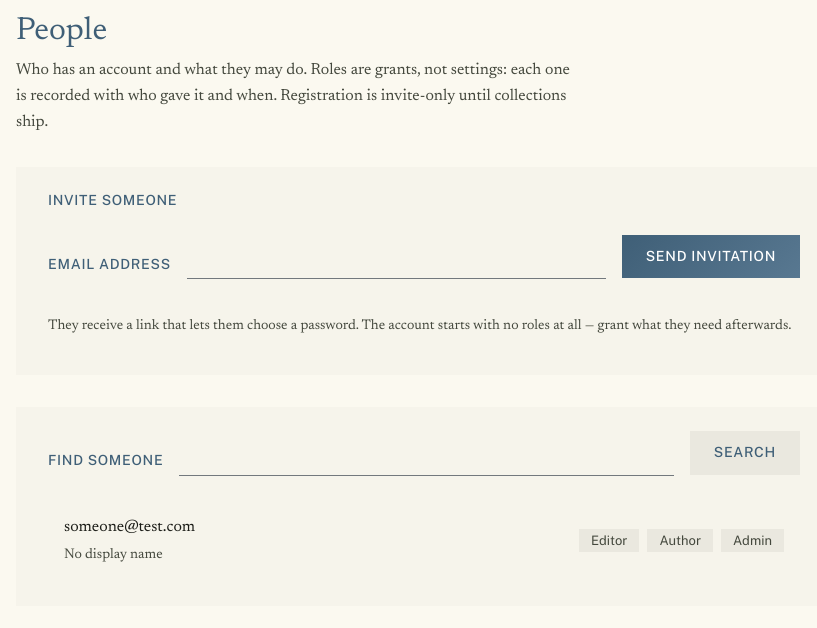
Test case: AdminUsers › sends an invitation and confirms which address it went to
In the field labelled "Email address": (396, 262) [187,246,606,278], type "newcomer@test.com"
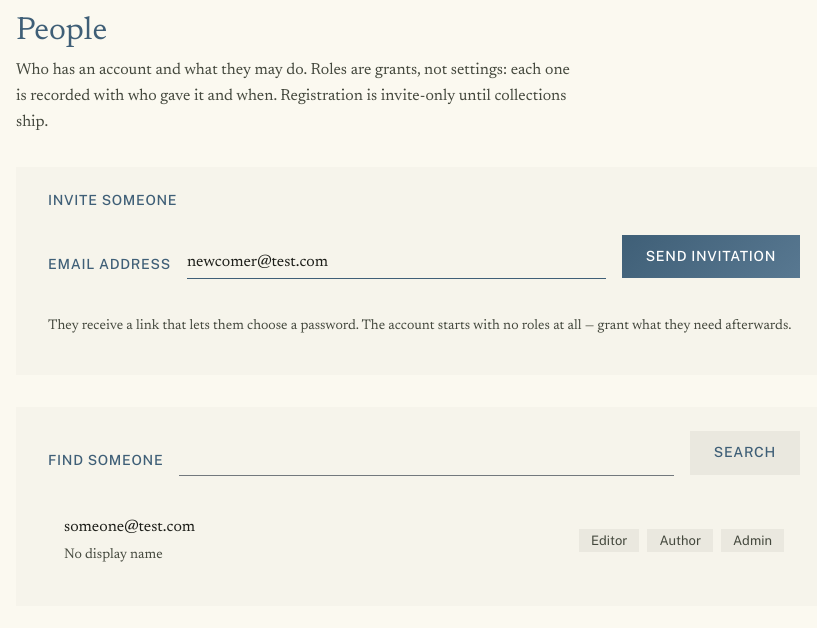
Click the button "Send invitation": click(711, 257) [622,235,800,278]
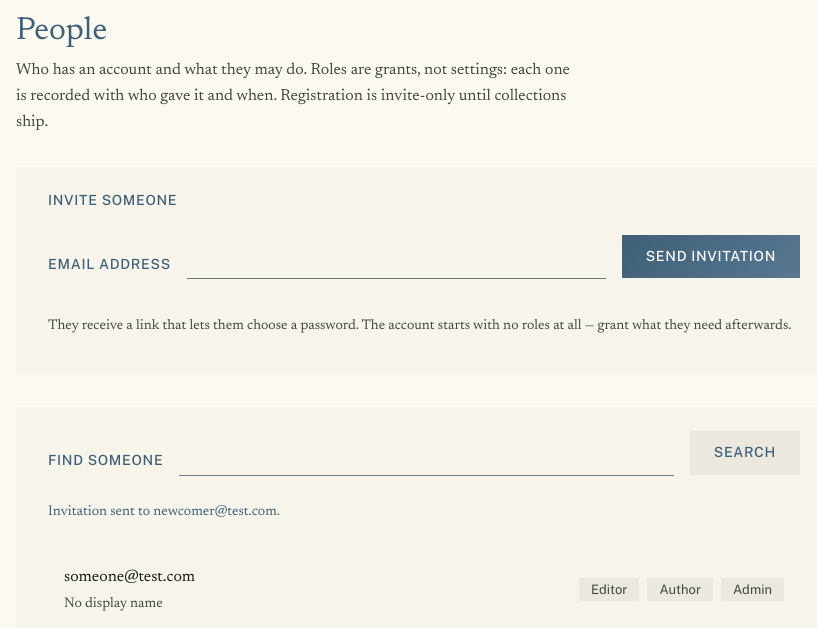
Now the message shows "newcomer@test.com", box [48,505,280,519]
